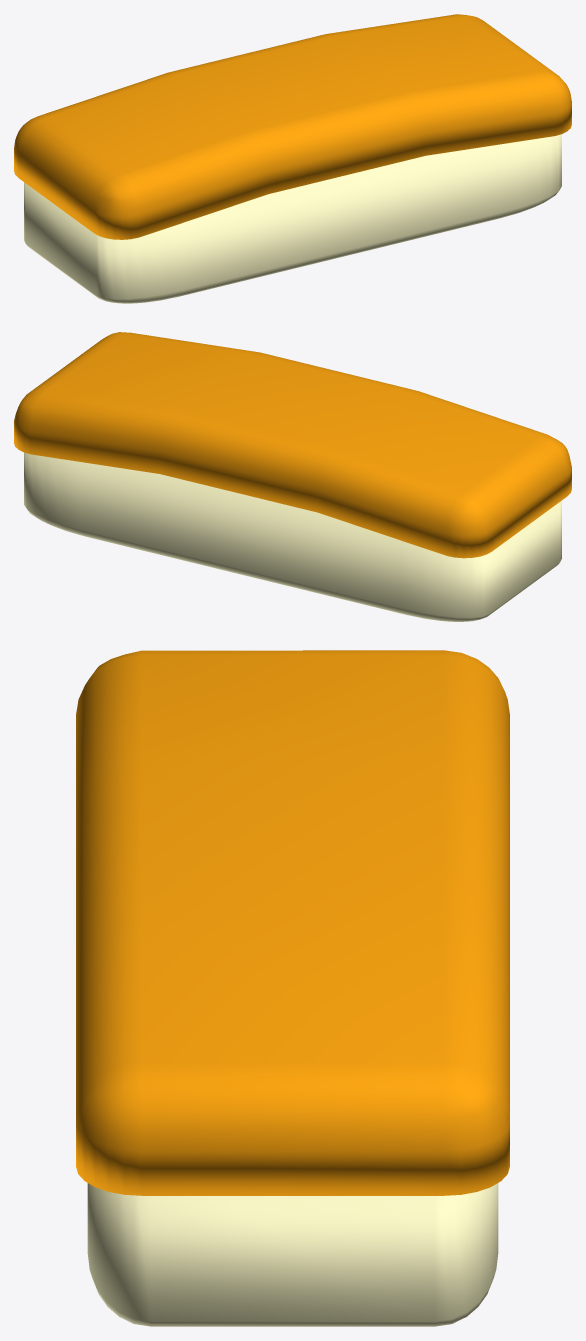
File: Niguiri de atun.fbx
3 views of the same model, one above another, from view 1: azimuth 30°, elevation 25°; view 2: azimuth 150°, elevation 25°; view 3: azimuth 270°, elevation 25° (orthographic). The views are drawn at different scales.
Parts seen in each view (by area): view 1: Niguiri de salmon; view 2: Niguiri de salmon; view 3: Niguiri de salmon.
Boxes of the visible parts, x1,y1,x2,y2 form: Niguiri de salmon: (14, 14, 571, 303); Niguiri de salmon: (14, 332, 571, 621); Niguiri de salmon: (76, 650, 509, 1326).
Bounding box in the file's own units: 126 × 36.6 × 49.83.
